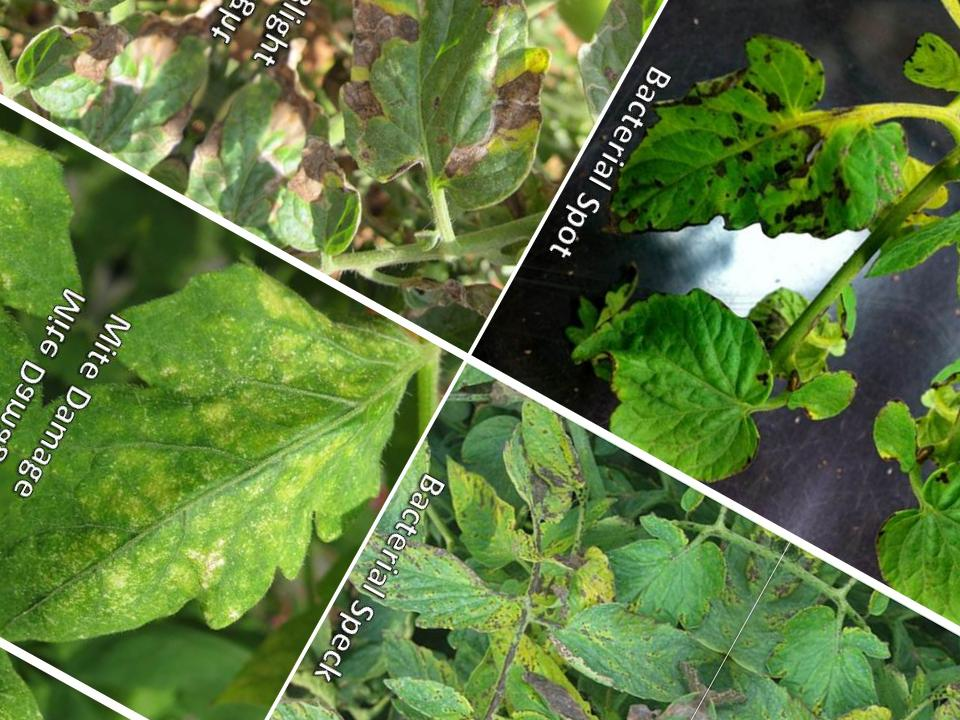Tomato Early blight leaf: (570, 0, 950, 351), (244, 0, 647, 261), (511, 220, 828, 505), (576, 480, 762, 671), (522, 547, 722, 720), (349, 508, 548, 669), (392, 443, 579, 597), (460, 397, 605, 535), (245, 656, 454, 720), (479, 681, 598, 720)
